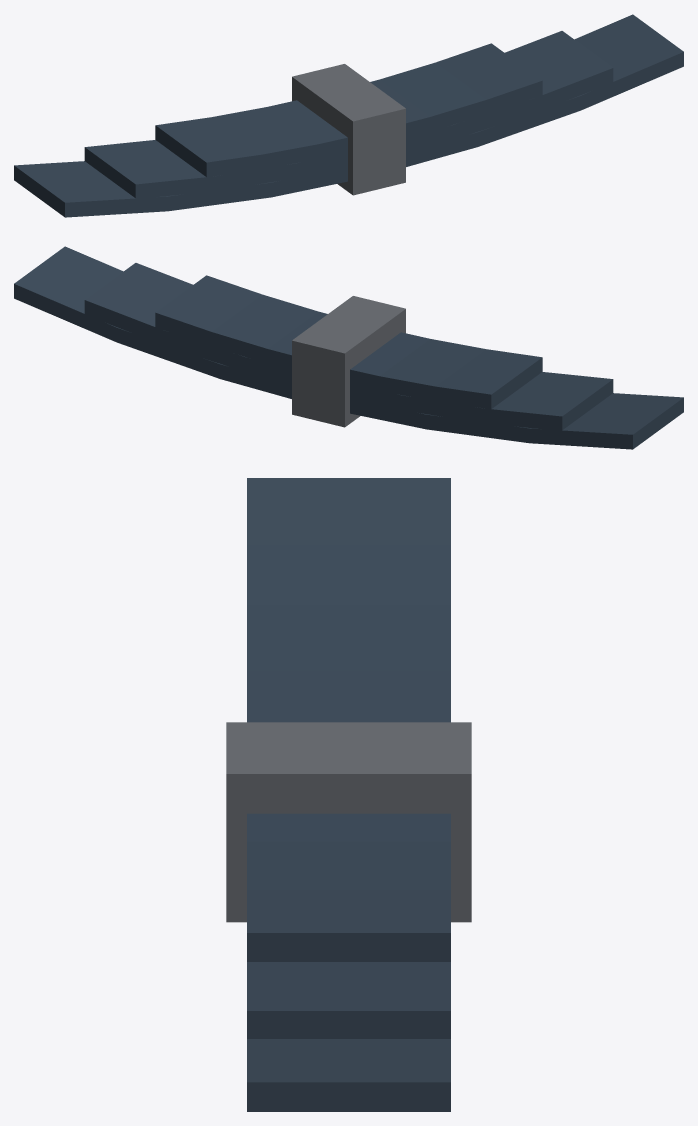
File: spring-steel.glb
The picture shows the model from 3 angles, top to bottom: view 1: azimuth 30°, elevation 25°; view 2: azimuth 150°, elevation 25°; view 3: azimuth 270°, elevation 25°; orthographic projection. The views are drawn at different scales.
Parts seen in each view (by area): view 1: spring_steel; view 2: spring_steel; view 3: spring_steel.
Boxes of the visible parts, box(x1,y1,x2,y2) form: spring_steel: box(14, 14, 683, 217); spring_steel: box(14, 246, 683, 449); spring_steel: box(226, 478, 471, 1111).
Bounding box in the file's own units: 0.35 × 0.04 × 0.06.
